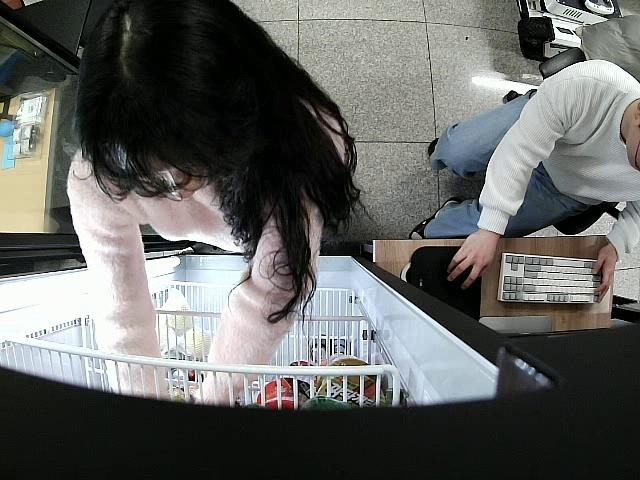00_hand: (447, 229, 498, 291)
